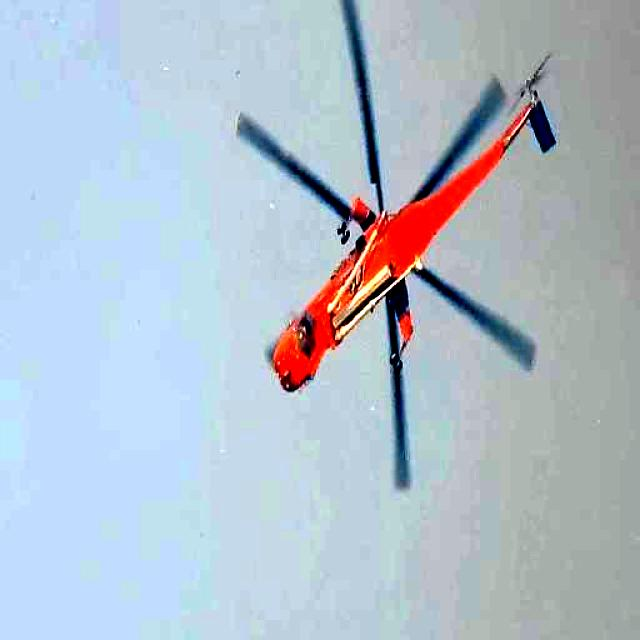drone: (208, 0, 608, 529)
